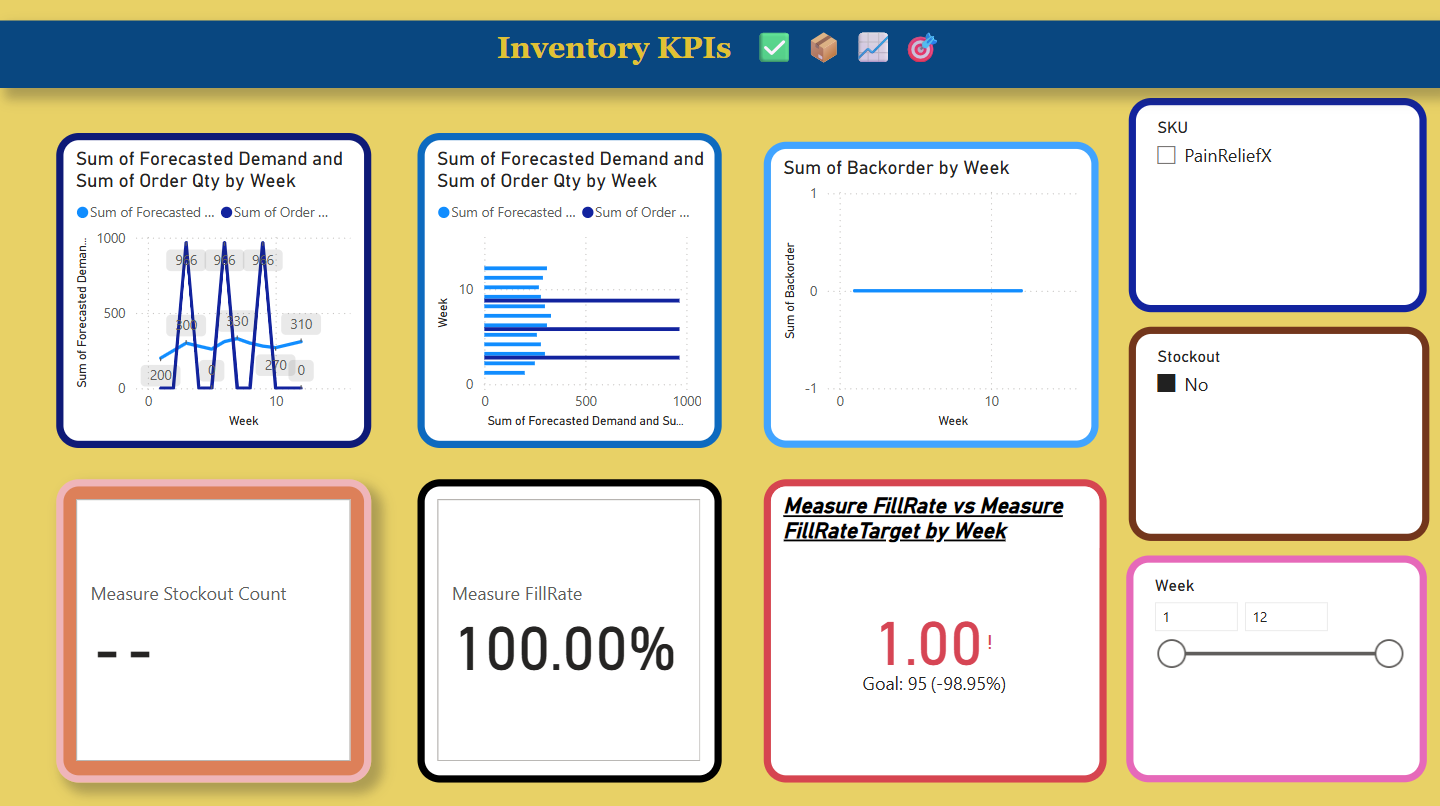

What the dashboard file says about the page in this screenshot:
{"tool":"powerbi","page":{"name":"Page 1","canvas":[1280,720],"ordinal":0},"visuals":[{"type":"lineChart","fields":{"Y":["Sum(Inventory_Simulation.Forecasted Demand)","Sum(Inventory_Simulation.Order Qty)"],"Category":["Inventory_Simulation.Week"]},"box":[49.6,119.6,280.1,280.1],"z":0},{"type":"clusteredBarChart","fields":{"Category":["Inventory_Simulation.Week"],"Y":["Sum(Inventory_Simulation.Forecasted Demand)","Sum(Inventory_Simulation.Order Qty)"]},"box":[371.6,119.6,270.4,280.1],"z":1000},{"type":"cardVisual","fields":{"Data":["Inventory_Simulation.Measure  Stockout Count"]},"box":[49.6,428,280.1,269.4],"z":2000},{"type":"lineChart","fields":{"Category":["Inventory_Simulation.Week"],"Y":["Sum(Inventory_Simulation.Backorder)"]},"box":[678.9,127.4,297.6,272.3],"z":3000},{"type":"cardVisual","fields":{"Data":["Inventory_Simulation.Measure  FillRate"]},"box":[371.6,428,270.4,269.4],"z":4000},{"type":"kpi","title":"Measure  FillRate vs Measure FillRateTarget by Week","fields":{"Indicator":["Inventory_Simulation.Measure  FillRate"],"Goal":["Inventory_Simulation.Measure FillRateTarget"],"TrendLine":["Inventory_Simulation.Week"]},"box":[678.9,428,304.4,269.4],"z":5000},{"type":"slicer","fields":{"Values":["Inventory_Simulation.SKU"]},"box":[1003.8,88.5,264.6,190.6],"z":6000},{"type":"slicer","fields":{"Values":["Inventory_Simulation.Stockout"]},"box":[1003.8,291.8,267.5,190.6],"z":7000},{"type":"slicer","fields":{"Values":["Inventory_Simulation.Week"]},"box":[1000.9,496,267.5,201.3],"z":8000},{"type":"textbox","box":[0,19.5,1280,60.3],"z":9000}]}

Visuals, with their boxes in screenshot pixels (x1, y1, x2, y2), scaled from the page's 1280x720 canvas onto the 1440x806 screenshot:
lineChart - Sum(Inventory_Simulation.Forecasted Demand) x Sum(Inventory_Simulation.Order Qty): [x1=56, y1=134, x2=371, y2=447]
clusteredBarChart - Inventory_Simulation.Week x Sum(Inventory_Simulation.Forecasted Demand): [x1=418, y1=134, x2=722, y2=447]
cardVisual - Inventory_Simulation.Measure  Stockout Count: [x1=56, y1=479, x2=371, y2=781]
lineChart - Inventory_Simulation.Week x Sum(Inventory_Simulation.Backorder): [x1=764, y1=143, x2=1099, y2=447]
cardVisual - Inventory_Simulation.Measure  FillRate: [x1=418, y1=479, x2=722, y2=781]
"Measure  FillRate vs Measure FillRateTarget by Week" kpi: [x1=764, y1=479, x2=1106, y2=781]
slicer - Inventory_Simulation.SKU: [x1=1129, y1=99, x2=1427, y2=312]
slicer - Inventory_Simulation.Stockout: [x1=1129, y1=327, x2=1430, y2=540]
slicer - Inventory_Simulation.Week: [x1=1126, y1=555, x2=1427, y2=781]
textbox: [x1=0, y1=22, x2=1439, y2=89]
